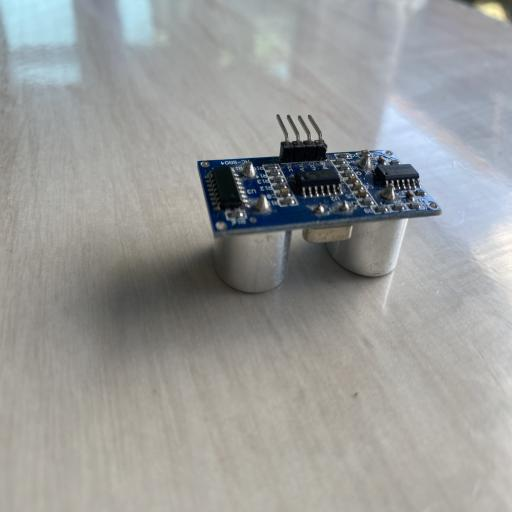Ultrasonic Sensor: (196, 114, 442, 294)
